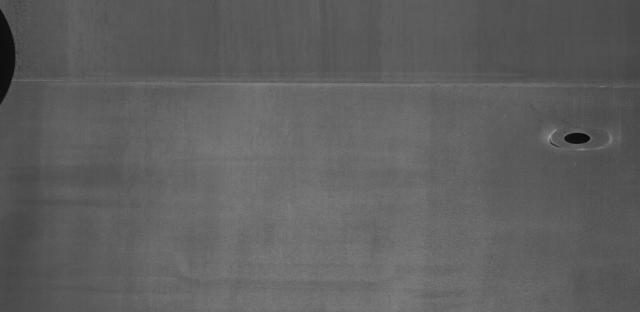punching_hole: (557, 128, 599, 147)
welding_line: (9, 74, 640, 98)
